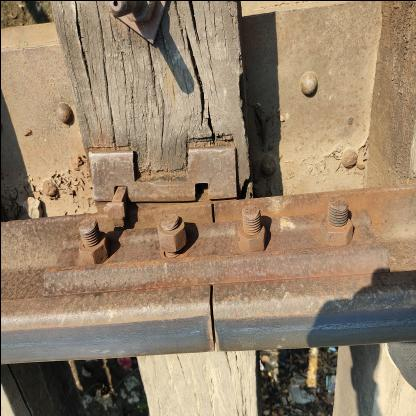Non Defective 2: (179, 43, 252, 141)
Non Defective 3: (37, 131, 395, 241)
